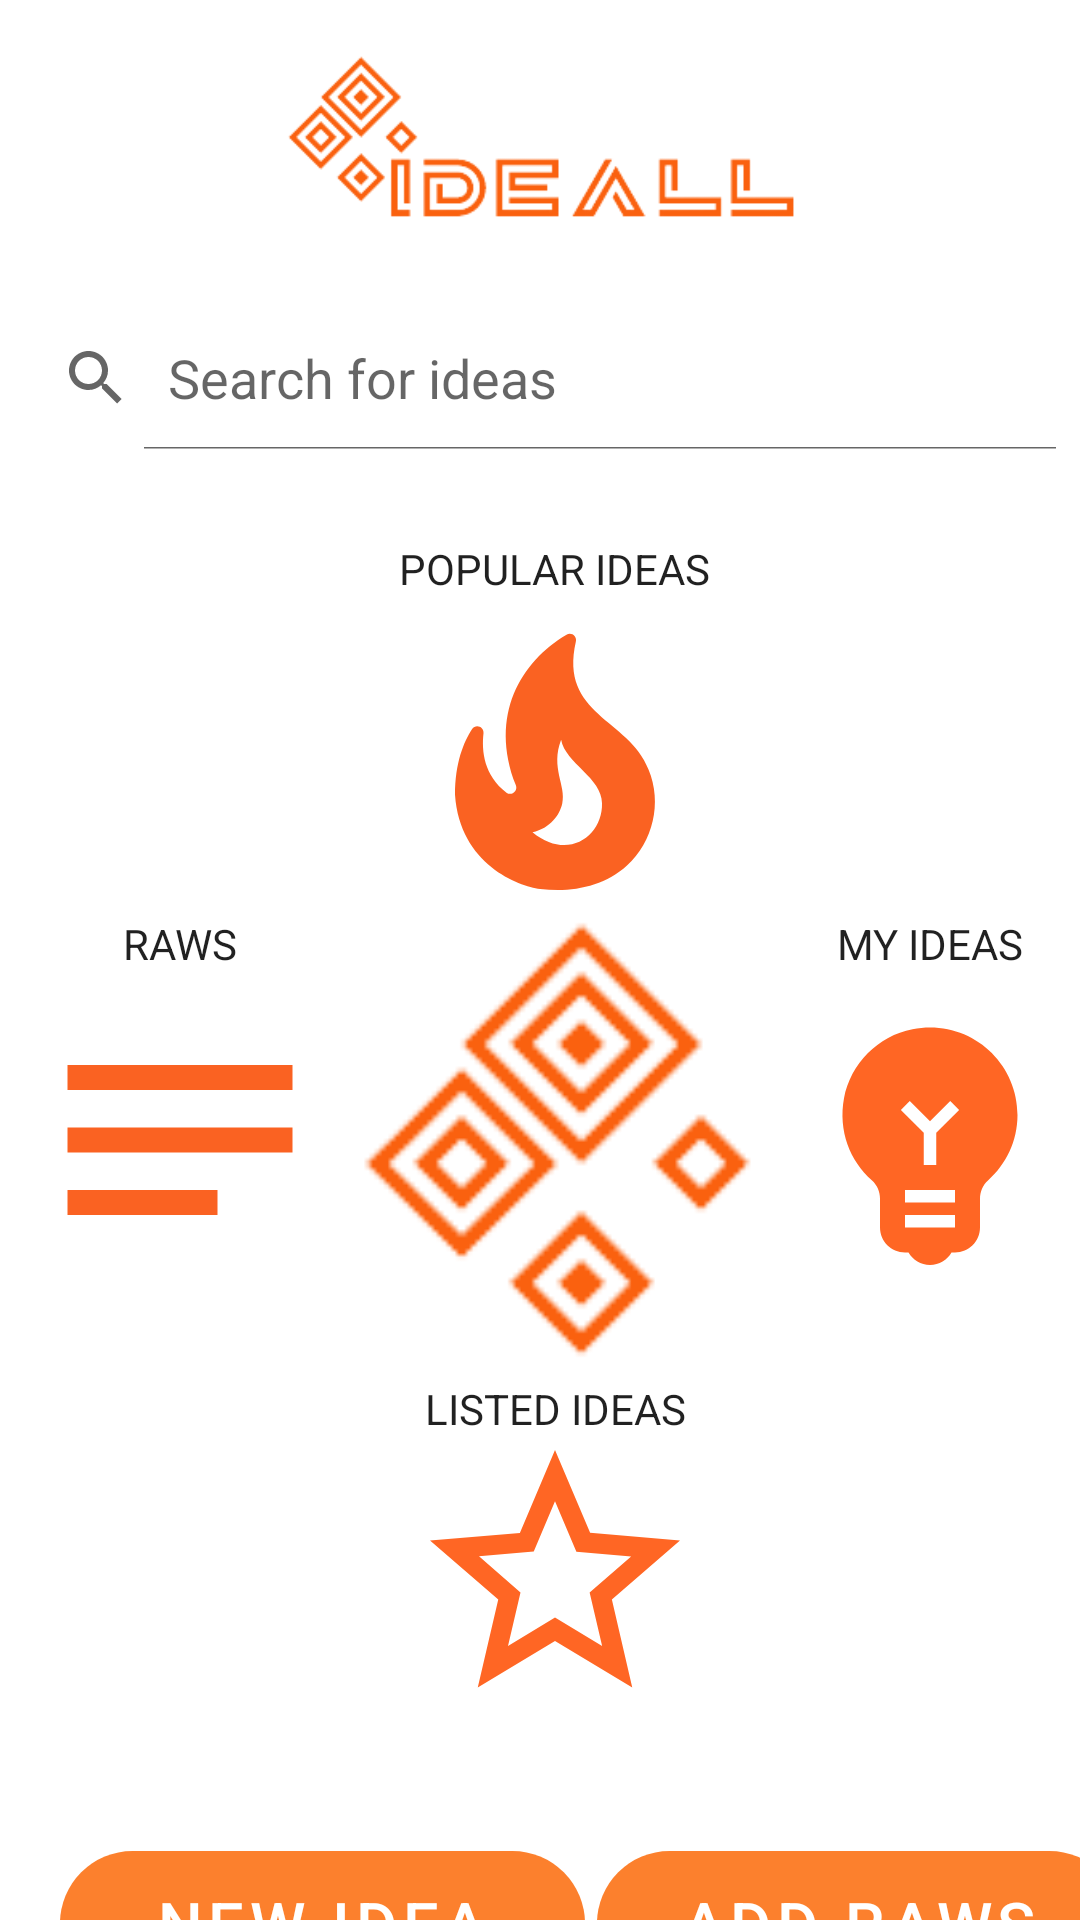

Icons on this 1080*1920 Android screen, each with its box as [left=x1, top=y1, right=x2, bottom=y2]:
fire: [left=455, top=633, right=655, bottom=890]
star border: [left=430, top=1450, right=680, bottom=1687]
